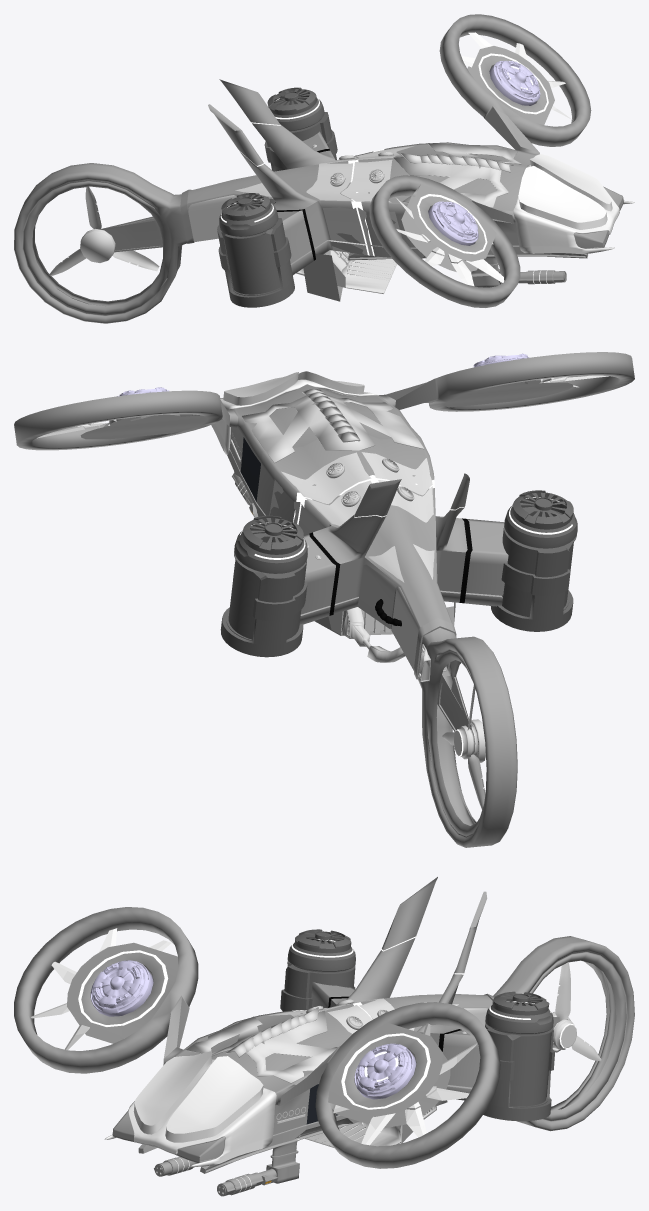
The model's file is war_drone.glb.
3 renders of one model, top to bottom at view 1: azimuth 30°, elevation 25°; view 2: azimuth 150°, elevation 25°; view 3: azimuth 270°, elevation 25°, orthographic. The views are drawn at different scales.
Visible parts, largest first — view 1: Circle.049, Cylinder.004, Circle.039, Circle.032, Circle.038, Circle.033, Circle.037, Circle.051, Plane.008, Cube.002, Circle.031, Circle.047 (+1 smaller); view 2: Circle.049, Cylinder.004, Circle.032, Circle.033, Circle.039, Circle.037, Circle.051, Circle.047, Circle.036, Circle.052, Circle.058; view 3: Circle.049, Cylinder.004, Circle.039, Circle.038, Circle.033, Cube.002, Plane.008, Circle.037, Circle.032, Circle.051, Circle.047.
Part boxes in pixels (<box>): Circle.049: <box>14,14,623,323</box>; Cylinder.004: <box>217,87,337,307</box>; Circle.039: <box>513,154,634,254</box>; Circle.032: <box>188,145,414,255</box>; Circle.038: <box>428,60,540,245</box>; Circle.033: <box>393,143,521,207</box>; Circle.037: <box>49,187,159,275</box>; Circle.051: <box>296,250,396,293</box>; Plane.008: <box>396,32,572,285</box>; Cube.002: <box>348,253,587,287</box>; Circle.031: <box>303,253,342,301</box>; Circle.047: <box>401,153,513,172</box>; Circle.049: <box>14,352,634,847</box>; Cylinder.004: <box>220,490,577,657</box>; Circle.032: <box>269,452,447,670</box>; Circle.033: <box>241,394,423,462</box>; Circle.039: <box>211,371,377,454</box>; Circle.037: <box>442,685,485,809</box>; Circle.051: <box>328,607,405,662</box>; Circle.047: <box>302,389,360,442</box>; Circle.036: <box>309,518,472,615</box>; Circle.052: <box>326,458,414,506</box>; Circle.058: <box>240,437,260,501</box>; Circle.049: <box>14,877,634,1168</box>; Cylinder.004: <box>280,929,554,1121</box>; Circle.039: <box>104,1051,276,1166</box>; Circle.038: <box>90,960,416,1099</box>; Circle.033: <box>186,1010,337,1083</box>; Cube.002: <box>138,1123,352,1196</box>; Plane.008: <box>31,928,477,1145</box>; Circle.037: <box>552,962,601,1061</box>; Circle.032: <box>264,998,487,1033</box>; Circle.051: <box>305,1100,447,1147</box>; Circle.047: <box>226,1007,318,1057</box>.
Bounding box in the file's own units: 5.29 × 2.64 × 5.14.
